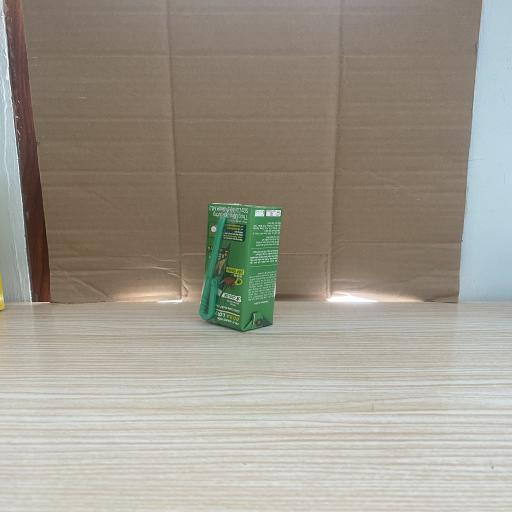milo: (199, 203, 282, 332)
